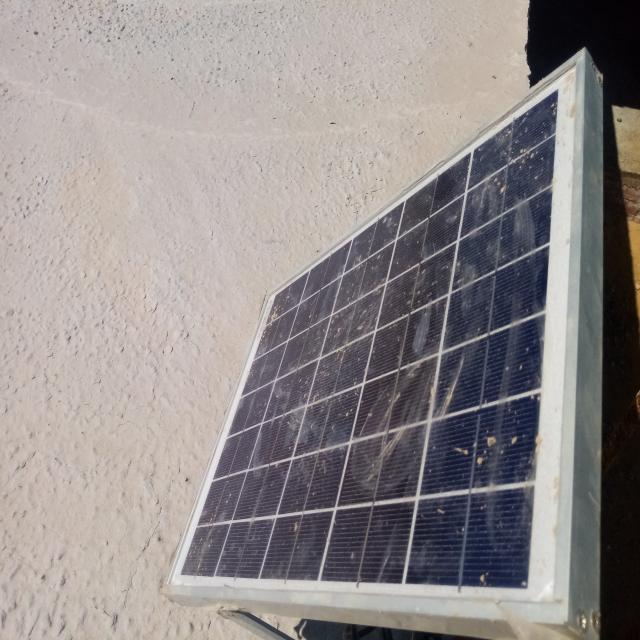faulty: (166, 51, 583, 619)
